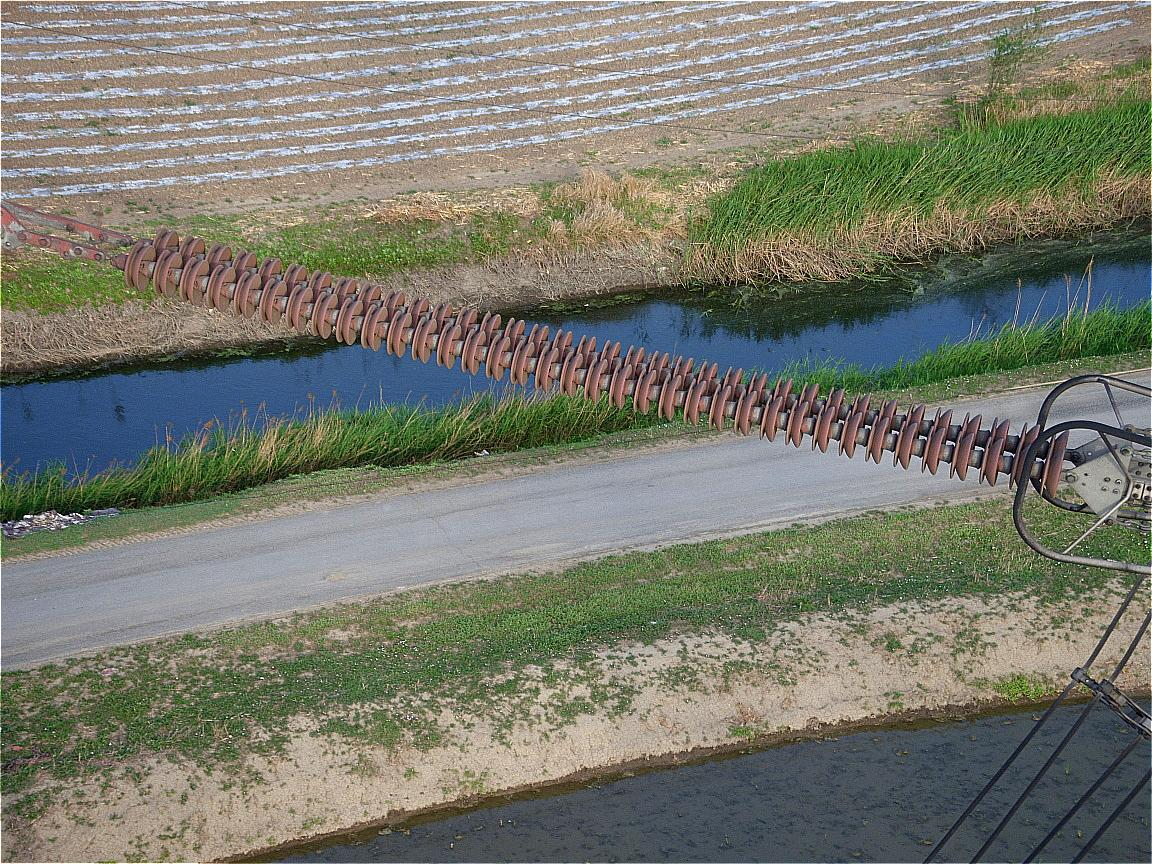insultor2: (122, 229, 1072, 499)
